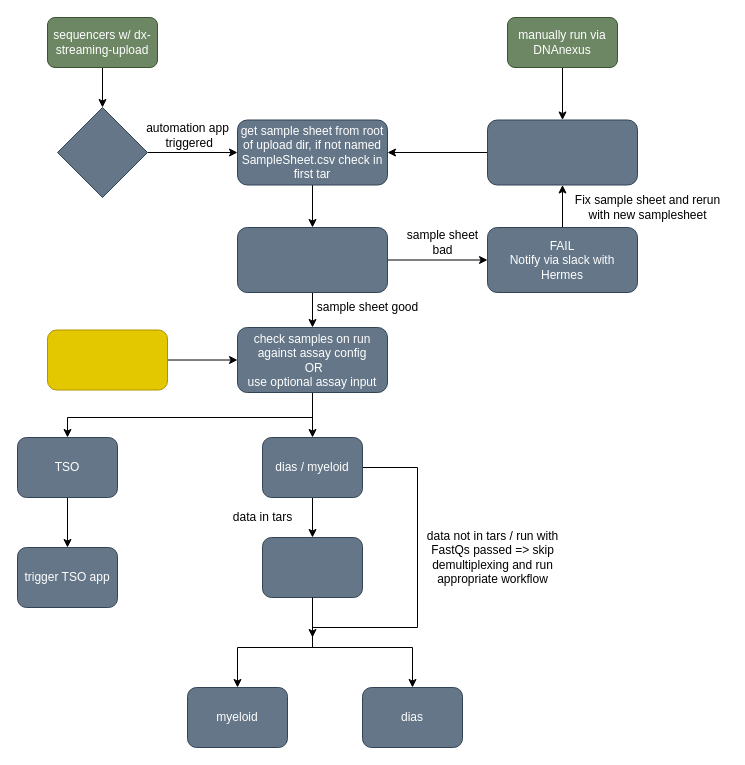
Some shapes in this 745 by 765 pixel diagram are drawn without their labels. Each missing label, with the box of its shape:
filename - assay config file: (46, 329, 168, 390)
run app from DNAnexus and give dir of data: (486, 119, 638, 185)
run tars in staging 52: (56, 106, 148, 198)
trigger bcl2fastq app to untar & demultiplex: (262, 536, 362, 598)
validate sample sheet: (236, 226, 388, 292)
